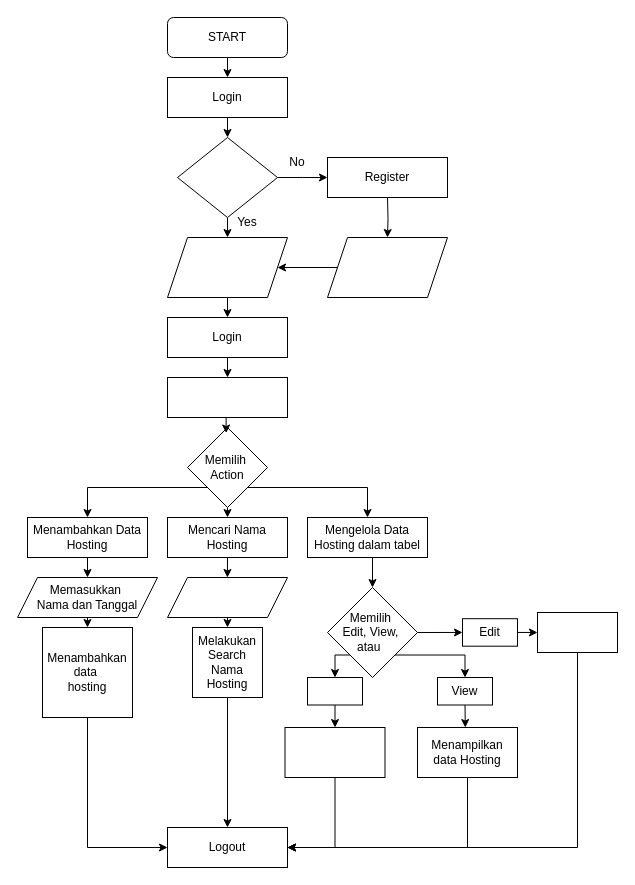
Some shapes in this 635 by 885 pixel diagram are drawn without their labels. The shapes that lost their labels are listed below. From the top down, each one's centre as x and y in pixels, then its label:
the point at 227,177: Sudah memiliki akun
the point at 227,267: Memasukkan Username dan Password
the point at 387,267: Membuat Username dan Password
the point at 227,397: Halaman Dashboard
the point at 227,597: Memasukkan Nama Hosting
the point at 577,632: Melakukan edit data
the point at 334,690: Delete
the point at 334,752: Menghapus data Hosting
